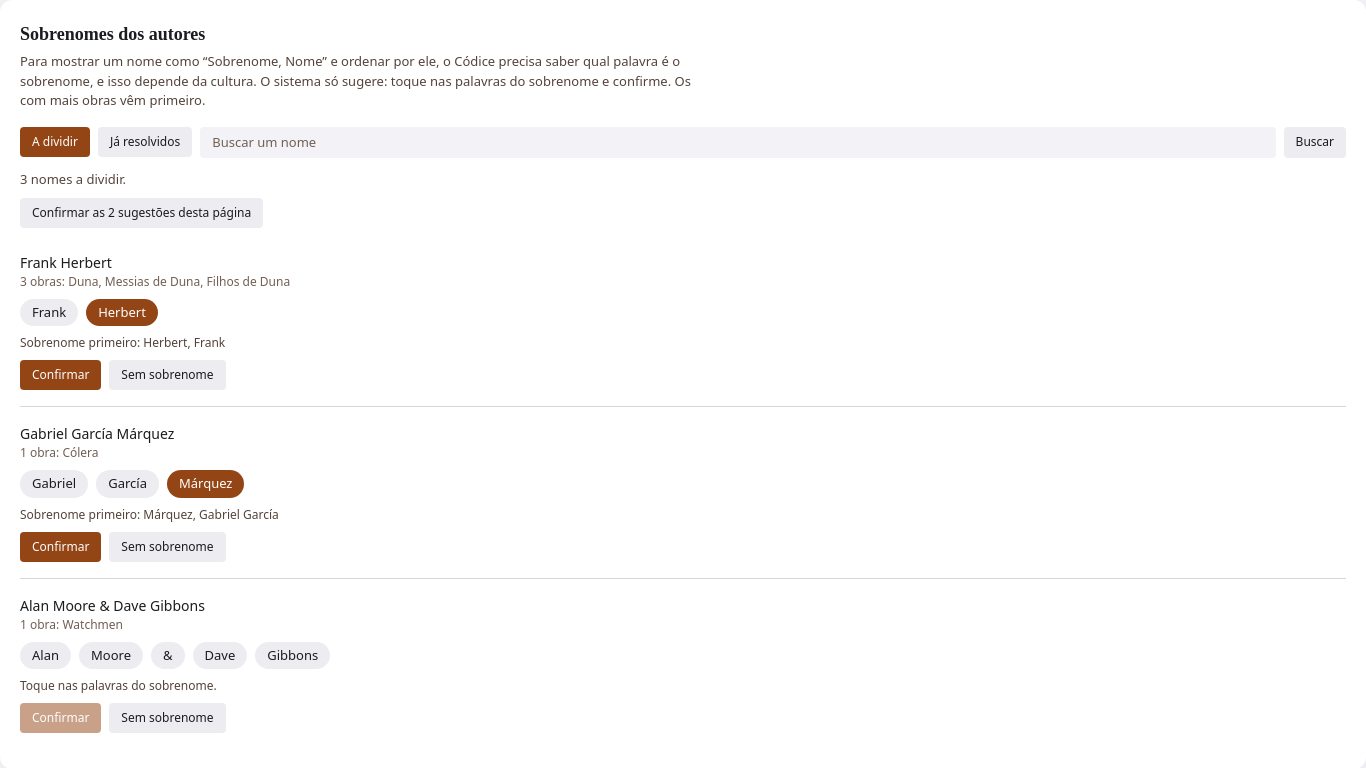
Scenario: PersonNames: the names to divide › lets the person change the words of the surname, for a compound one
The width and height of the screenshot is (1366, 768).
Expected: the list item that starts with "Gabriel García Márquez" shows "Sobrenome primeiro: Márquez, Gabriel García", x1=20 y1=506 x2=279 y2=522
Click the button "García" at point(128, 484), box x1=96 y1=470 x2=159 y2=498
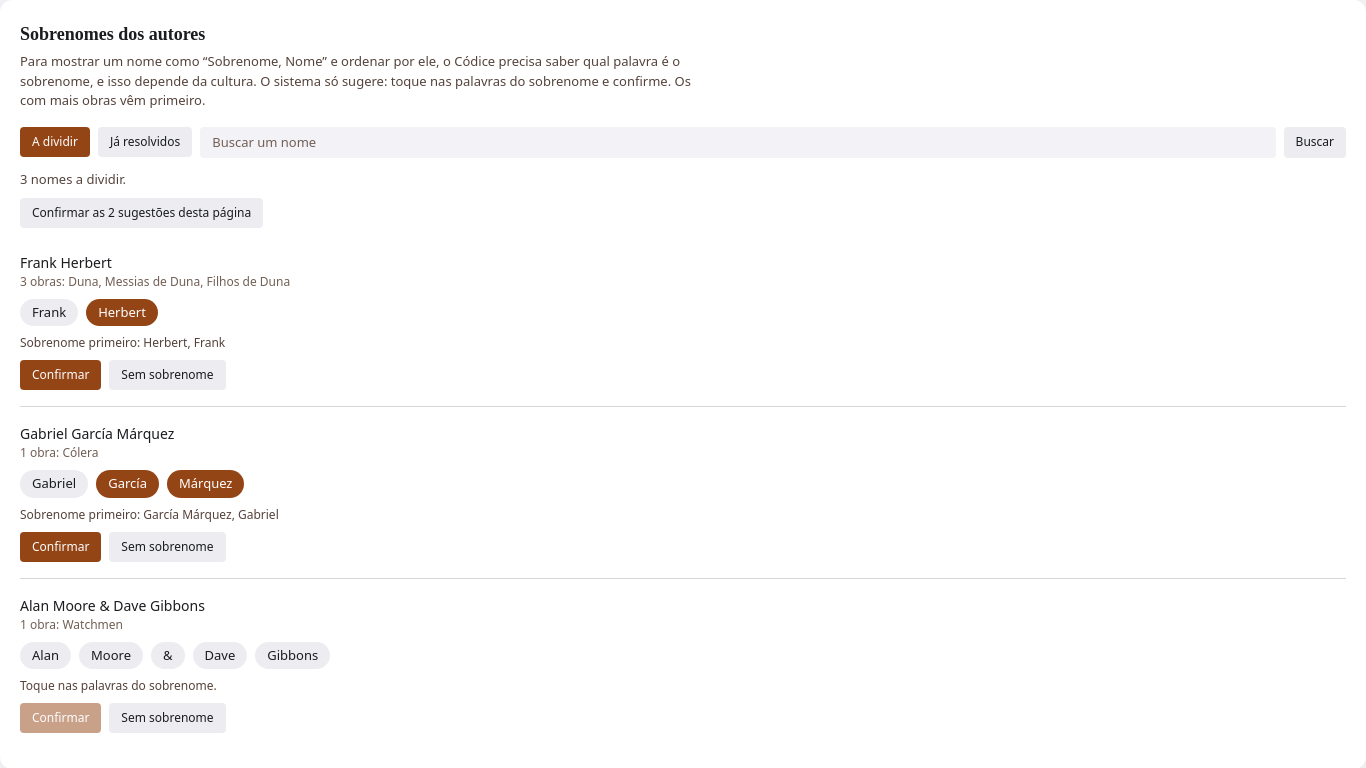
Expected: the list item that starts with "Gabriel García Márquez" shows "Sobrenome primeiro: García Márquez, Gabriel", x1=20 y1=506 x2=279 y2=522
Click the button "García" at point(128, 484), box x1=96 y1=470 x2=159 y2=498
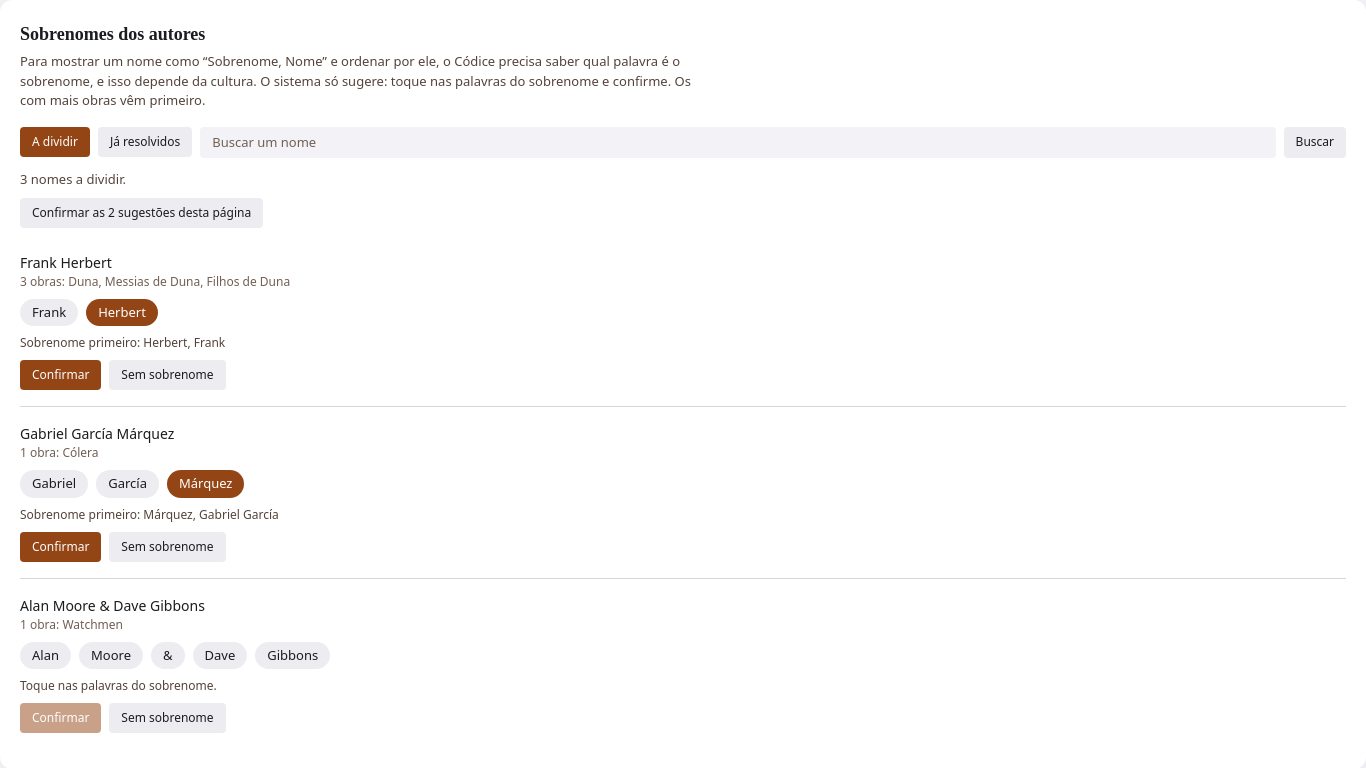
Expected: the list item that starts with "Gabriel García Márquez" shows "Sobrenome primeiro: Márquez, Gabriel García", x1=20 y1=506 x2=279 y2=522
Click the button "Márquez" at point(206, 484), box x1=167 y1=470 x2=244 y2=498
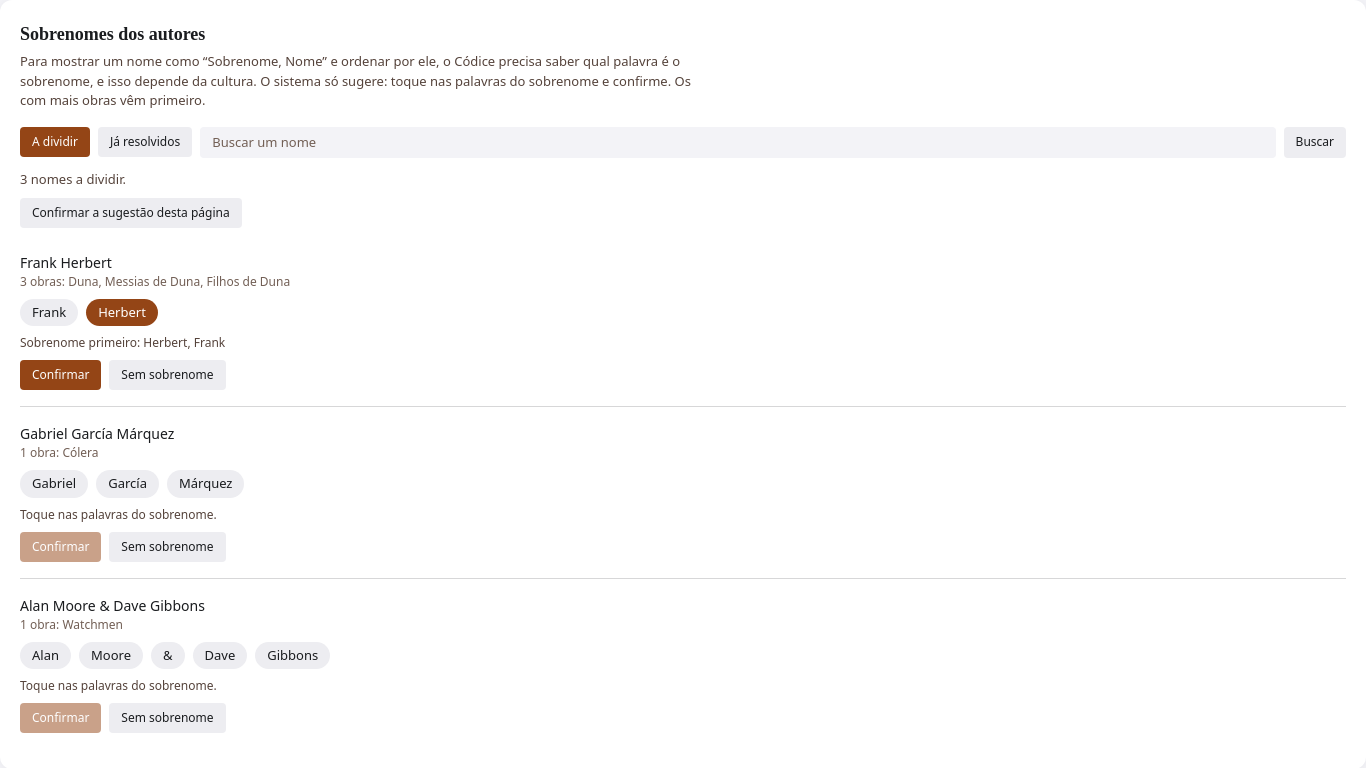
Expected: the list item that starts with "Gabriel García Márquez" shows "Toque nas palavras do sobrenome.", x1=20 y1=506 x2=217 y2=522
Expected: the button "Confirmar" below ": Cólera" is disabled, x1=20 y1=532 x2=101 y2=562
